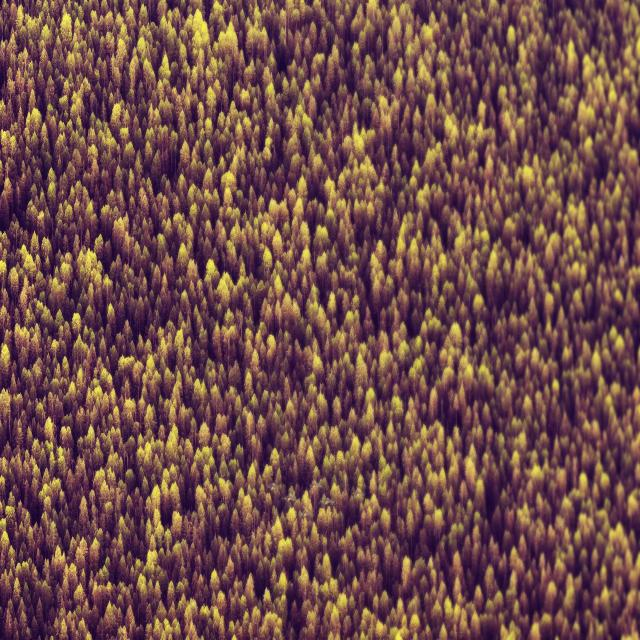airplane: (320, 495, 335, 507), (296, 508, 312, 519), (266, 480, 280, 492), (311, 480, 323, 491), (283, 494, 295, 504), (350, 492, 365, 500)
